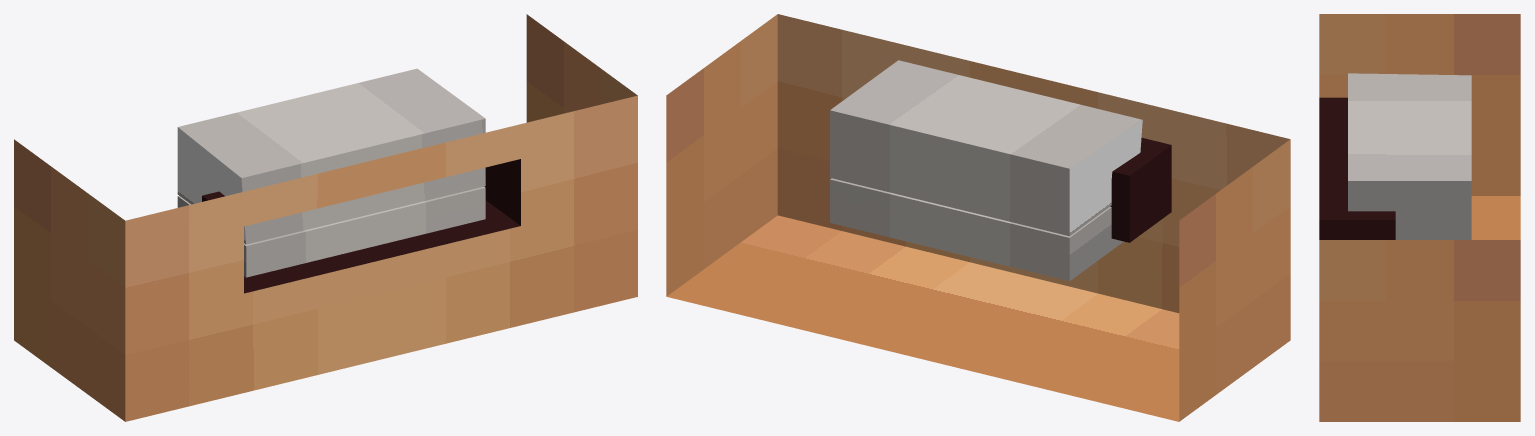
Rendered from skM1_jesse_mouthEE.glb.
3 views of the same model, side by side, from view 1: azimuth 30°, elevation 25°; view 2: azimuth 150°, elevation 25°; view 3: azimuth 270°, elevation 25° (orthographic). The views are drawn at different scales.
Visible parts, largest first — view 1: skM1_jesse; view 2: skM1_jesse; view 3: skM1_jesse.
Part boxes in pixels (bbox=[...]): skM1_jesse: bbox=[14, 14, 637, 421]; skM1_jesse: bbox=[666, 14, 1290, 421]; skM1_jesse: bbox=[1319, 14, 1520, 421].
Bounding box in the file's own units: 0.5012 × 0.1883 × 0.1885.
1 material, 1 textured.
